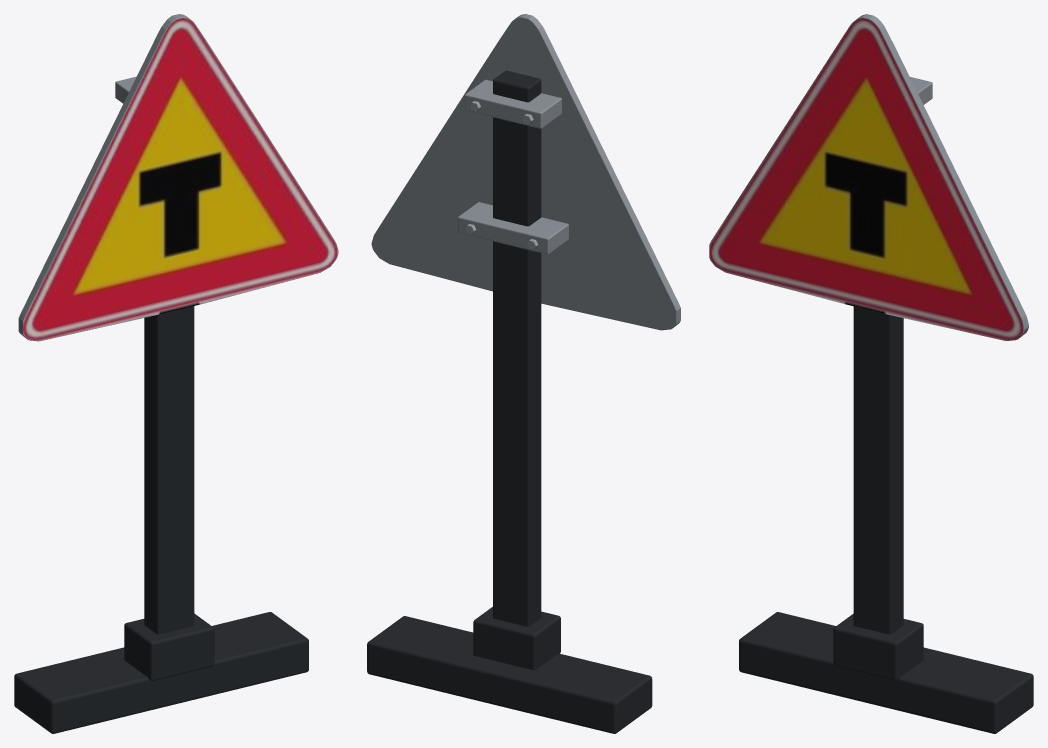
3 renders of one model, left to right at view 1: azimuth 30°, elevation 25°; view 2: azimuth 150°, elevation 25°; view 3: azimuth 330°, elevation 25°, orthographic. The views are drawn at different scales.
Parts seen in each view (by area): view 1: g3, g0, g2; view 2: g0, g2; view 3: g3, g0, g2.
Part boxes in pixels (bbox=[...]): g3: bbox=[23, 17, 338, 341]; g0: bbox=[14, 306, 308, 733]; g2: bbox=[18, 14, 338, 341]; g0: bbox=[367, 70, 652, 733]; g2: bbox=[371, 14, 680, 330]; g3: bbox=[709, 17, 1024, 340]; g0: bbox=[739, 306, 1033, 733]; g2: bbox=[711, 14, 1028, 340].
Size of the model in its own units: 0.1174 by 0.0265 by 0.2437.
Materials: 4 (1 with a texture image).
